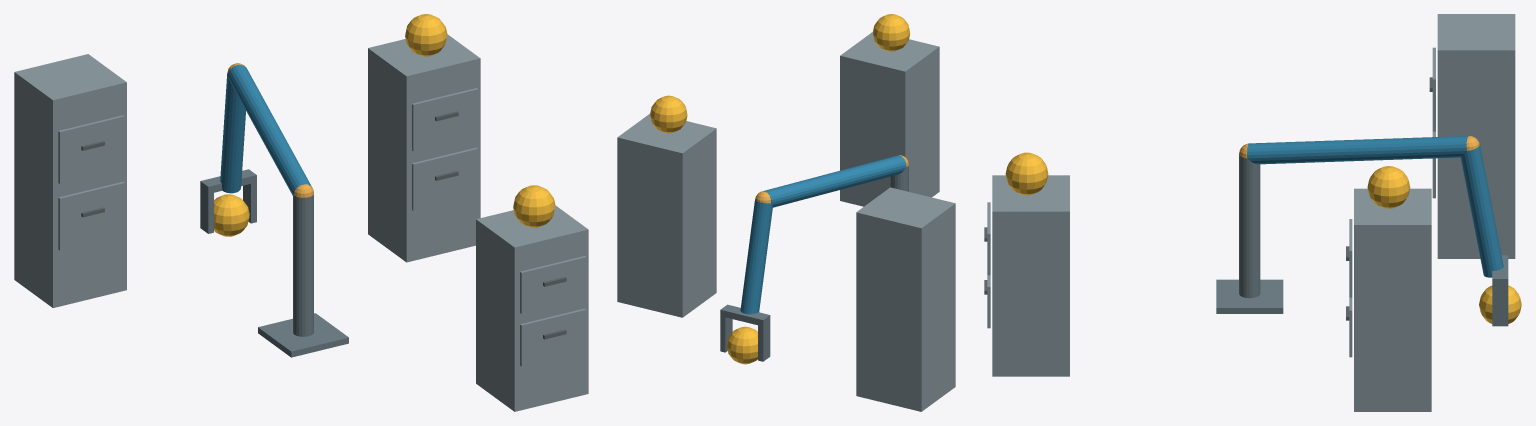
The picture shows the model from 3 angles, left to right: view 1: azimuth 30°, elevation 25°; view 2: azimuth 150°, elevation 25°; view 3: azimuth 270°, elevation 25°; orthographic projection. The views are drawn at different scales.
Parts seen in each view (by area): view 1: cabinet_3 body, cabinet_2 body, cabinet_1 body, cabinet_3 drawer front, cabinet_3 drawer front.001, cabinet_2 drawer front, cabinet_2 drawer front.001, moving link 1, fixed post, cabinet_1 drawer front, cabinet_1 drawer front.001, moving link 2 (+6 smaller); view 2: cabinet_3 body, cabinet_2 body, cabinet_1 body, moving link 1, moving link 2, released ball_2, released ball_1, ball ball_3, gripper bridge, gripper finger -1, gripper finger 1, fixed post; view 3: cabinet_2 body, cabinet_3 body, cabinet_1 body, moving link 1, fixed post, moving link 2, pedestal, released ball_1, released ball_2, ball ball_3, gripper finger 1.
Boxes of the visible parts, left/top/right/bottom form: cabinet_3 body: left=14, top=54, right=126, bottom=307; cabinet_2 body: left=368, top=34, right=480, bottom=262; cabinet_1 body: left=476, top=205, right=588, bottom=411; cabinet_3 drawer front: left=58, top=181, right=124, bottom=250; cabinet_3 drawer front.001: left=58, top=115, right=124, bottom=183; cabinet_2 drawer front: left=412, top=147, right=478, bottom=210; cabinet_2 drawer front.001: left=412, top=88, right=478, bottom=151; moving link 1: left=227, top=64, right=312, bottom=195; fixed post: left=293, top=194, right=313, bottom=336; cabinet_1 drawer front: left=520, top=308, right=586, bottom=366; cabinet_1 drawer front.001: left=520, top=256, right=586, bottom=313; moving link 2: left=220, top=72, right=245, bottom=193; cabinet_3 body: left=856, top=187, right=955, bottom=411; cabinet_2 body: left=617, top=114, right=716, bottom=317; cabinet_1 body: left=840, top=32, right=939, bottom=206; moving link 1: left=763, top=155, right=906, bottom=207; moving link 2: left=740, top=199, right=772, bottom=314; released ball_2: left=650, top=95, right=687, bottom=133; released ball_1: left=873, top=14, right=910, bottom=51; ball ball_3: left=726, top=326, right=757, bottom=364; gripper bridge: left=720, top=304, right=770, bottom=326; gripper finger -1: left=758, top=322, right=770, bottom=361; gripper finger 1: left=720, top=316, right=732, bottom=352; fixed post: left=890, top=165, right=908, bottom=191; cabinet_2 body: left=1354, top=188, right=1431, bottom=411; cabinet_3 body: left=1437, top=14, right=1515, bottom=258; cabinet_1 body: left=992, top=175, right=1069, bottom=376; moving link 1: left=1247, top=136, right=1468, bottom=164; fixed post: left=1239, top=154, right=1260, bottom=298; moving link 2: left=1460, top=144, right=1503, bottom=277; pedestal: left=1216, top=279, right=1283, bottom=313; released ball_1: left=1005, top=152, right=1048, bottom=195; released ball_2: left=1367, top=166, right=1410, bottom=208; ball ball_3: left=1479, top=285, right=1521, bottom=323; gripper finger 1: left=1492, top=286, right=1508, bottom=326.
Bounding box in the file's own units: 1.67 × 0.9302 × 2.01.
